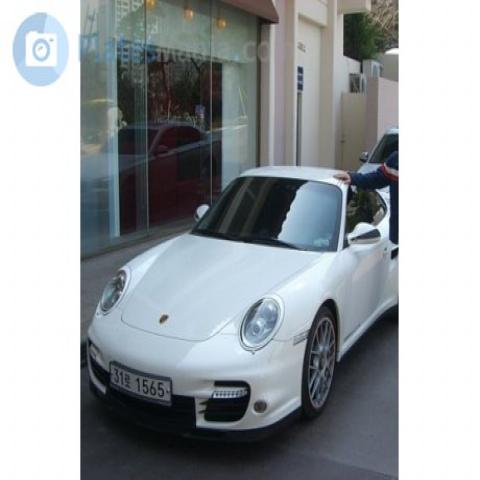LP: (108, 354, 175, 409)
